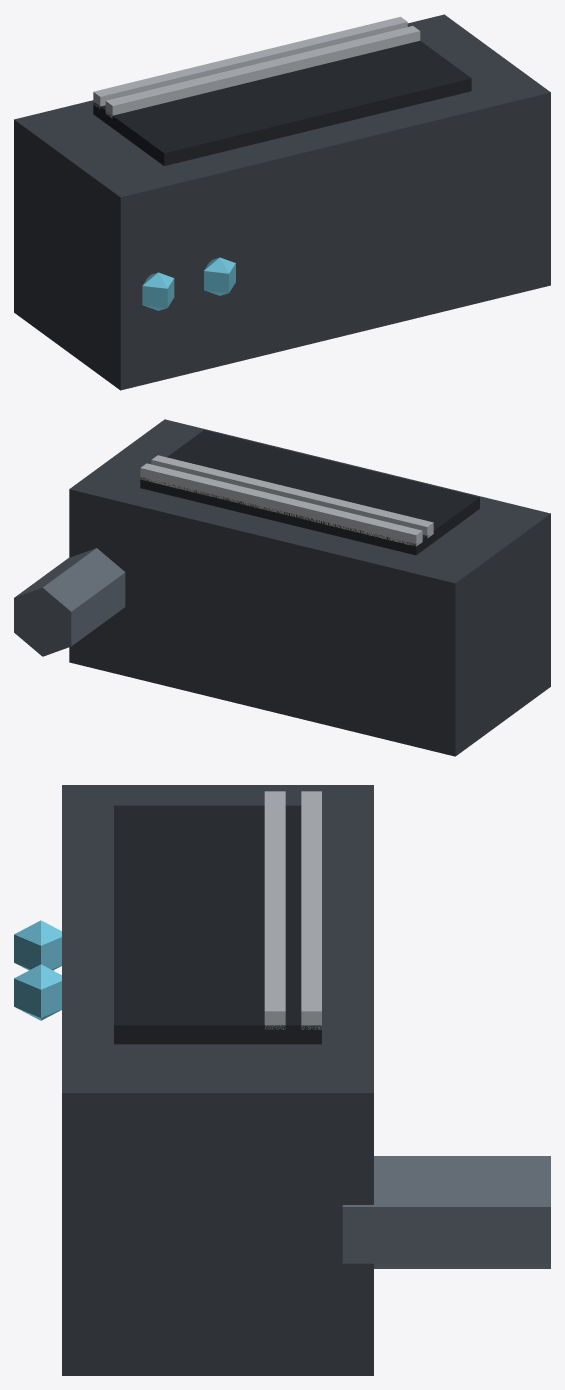
File: droid-vocoder-fine.glb
The picture shows the model from 3 angles, top to bottom: view 1: azimuth 30°, elevation 25°; view 2: azimuth 150°, elevation 25°; view 3: azimuth 270°, elevation 25°; orthographic projection. The views are drawn at different scales.
Parts seen in each view (by area): view 1: m; view 2: m; view 3: m.
Boxes of the visible parts, bbox=[...] form: m: bbox=[14, 14, 550, 390]; m: bbox=[14, 419, 550, 756]; m: bbox=[14, 785, 550, 1375].
Bounding box in the file's own units: 0.1 × 0.0484 × 0.0735.
